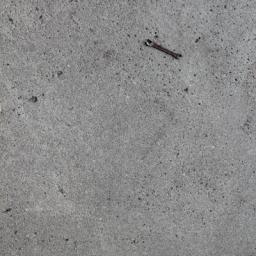FOD: (143, 36, 185, 62)
